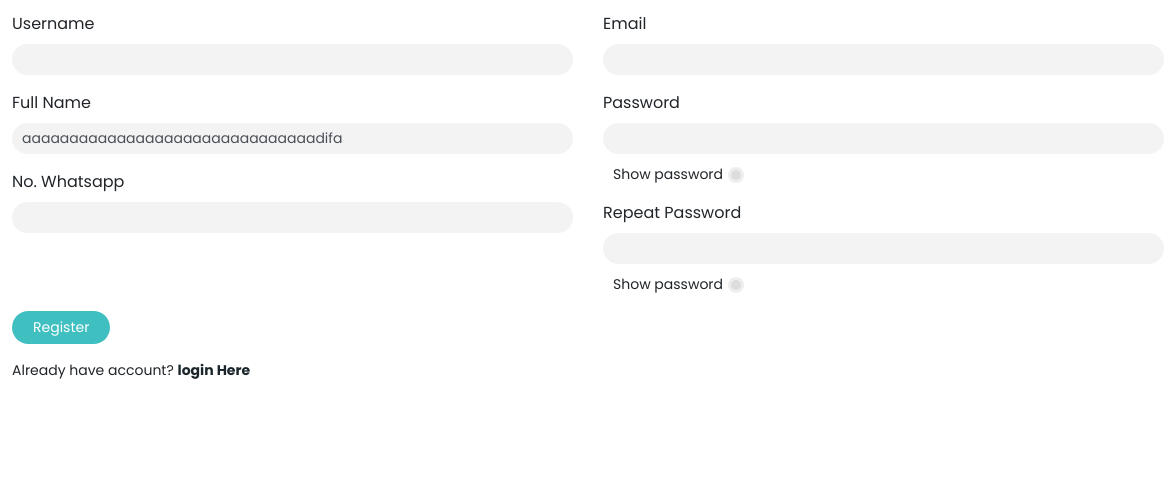
Scenario: FullName Test › renders an error when first name is more than 30 characters
Click the button "Register": (61, 328) left=12, top=311, right=110, bottom=344
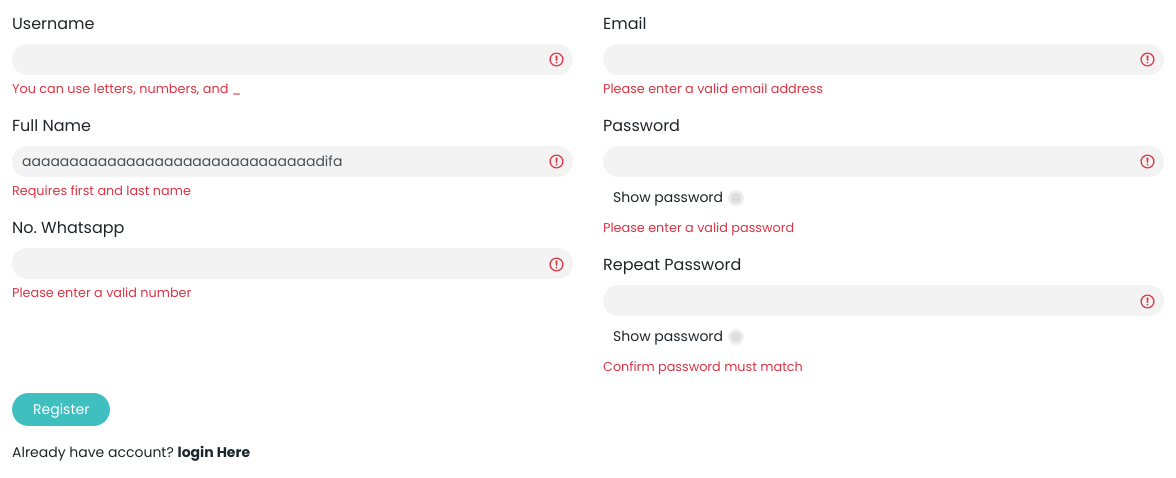
Result: the text with class "error_fullname" reads "Requires first and last name" at left=12, top=182, right=191, bottom=199
